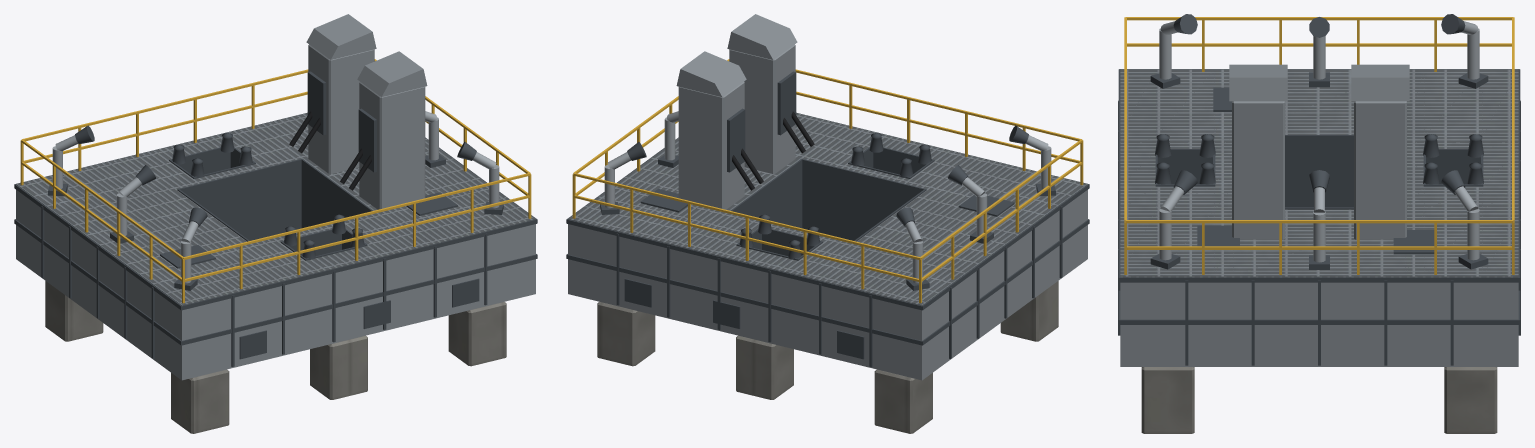
The model's file is mlp_shuttle.glb.
3 renders of one model, left to right at view 1: azimuth 30°, elevation 25°; view 2: azimuth 150°, elevation 25°; view 3: azimuth 270°, elevation 25°, orthographic. The views are drawn at different scales.
Visible parts, largest first — view 1: mlp_shuttle, tsm, pedestals, rainbirds, posts; view 2: mlp_shuttle, tsm, pedestals, rainbirds, posts; view 3: mlp_shuttle, tsm, rainbirds, pedestals, posts.
Boxes of the visible parts, x1=… form: mlp_shuttle: x1=14, y1=59, x2=537, y2=380; tsm: x1=289, y1=14, x2=427, y2=209; pedestals: x1=45, y1=281, x2=506, y2=433; rainbirds: x1=48, y1=111, x2=503, y2=290; posts: x1=172, y1=133, x2=364, y2=259; mlp_shuttle: x1=566, y1=59, x2=1089, y2=380; tsm: x1=676, y1=14, x2=814, y2=209; pedestals: x1=597, y1=281, x2=1058, y2=433; rainbirds: x1=600, y1=111, x2=1055, y2=290; posts: x1=739, y1=133, x2=931, y2=259; mlp_shuttle: x1=1118, y1=17, x2=1520, y2=366; tsm: x1=1229, y1=64, x2=1409, y2=239; rainbirds: x1=1150, y1=14, x2=1488, y2=269; pedestals: x1=1141, y1=367, x2=1497, y2=433; posts: x1=1155, y1=134, x2=1483, y2=184.
Size of the model in its own units: 9.34 by 6.83 by 7.59.
7 materials, 2 textured.
